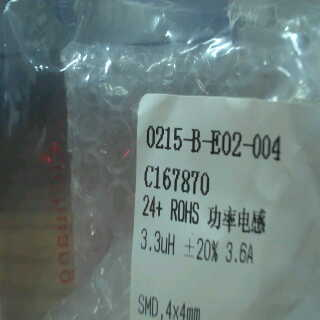3.3uH: (134, 223, 180, 264)
